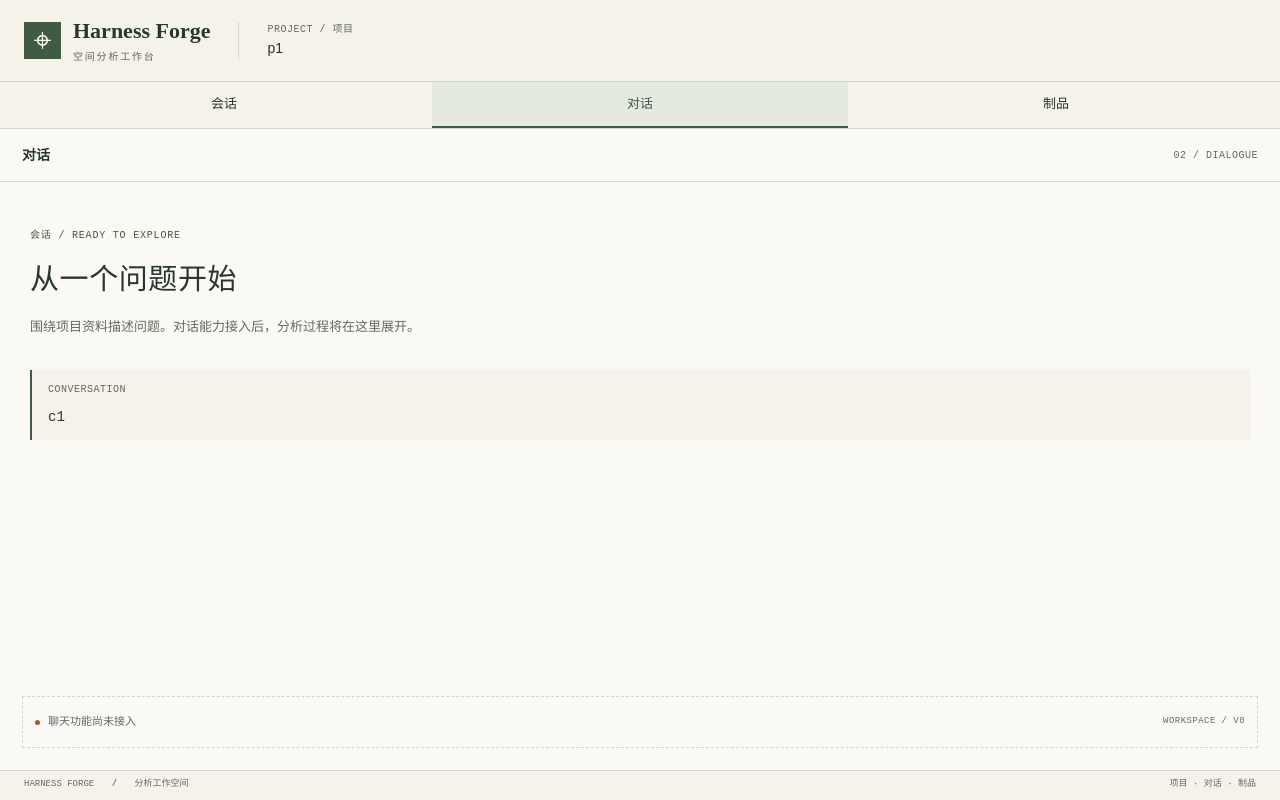
Test: WorkbenchLayout › uses accessible single-panel tabs on narrow screens and supports arrow navigation
The image size is (1280, 800).
Press ArrowRight in the tab "对话", box [432,82,848,128]
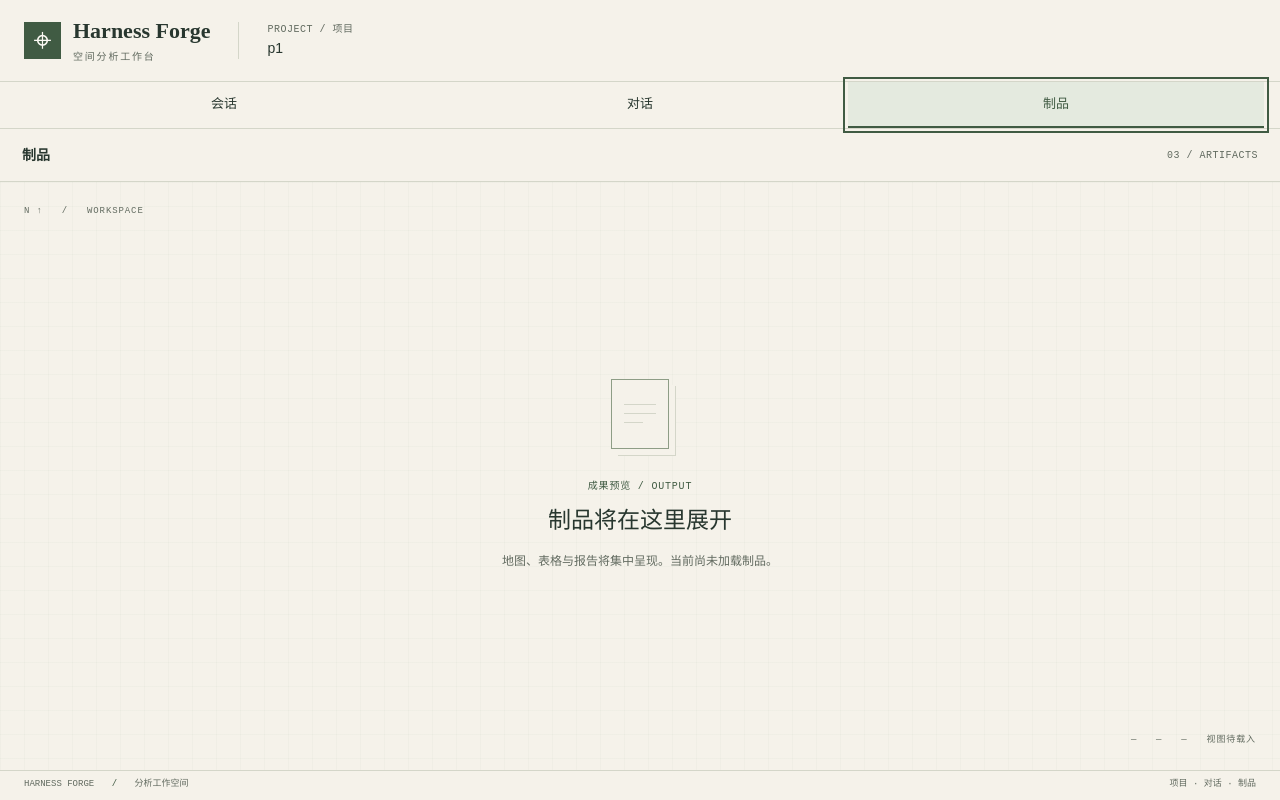
Check: the panel with id "artifact-pane" is shown
Check: the panel with id "chat-pane" is gone
Click the tab "会话".
click(224, 105)  # box [16,82,432,128]
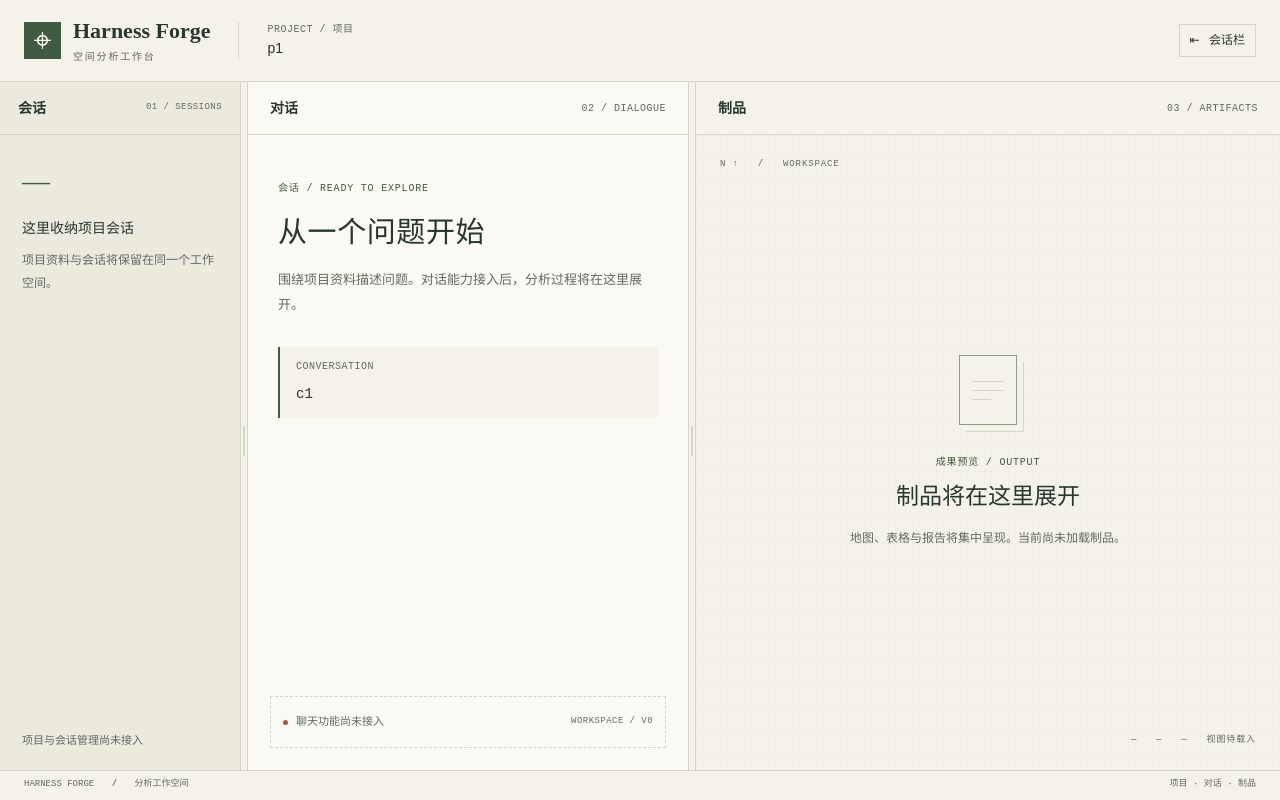
Check: the element with id "artifact-pane" is shown, box [696,82,1279,770]
Check: the element with id "sidebar-pane" is shown, box [0,82,240,770]
Check: the element with id "chat-pane" is shown, box [248,82,688,770]
